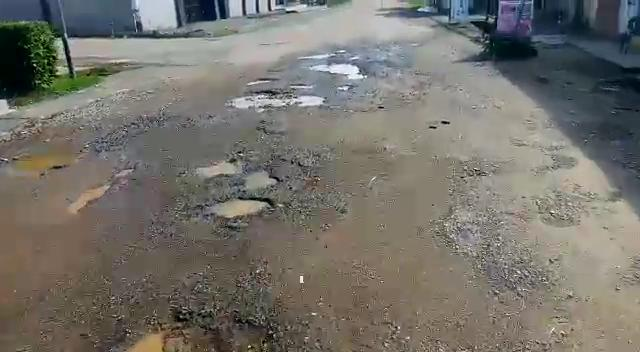pothole: (195, 157, 280, 188), (203, 195, 274, 221), (230, 93, 327, 110), (306, 60, 364, 77), (248, 76, 275, 83)
